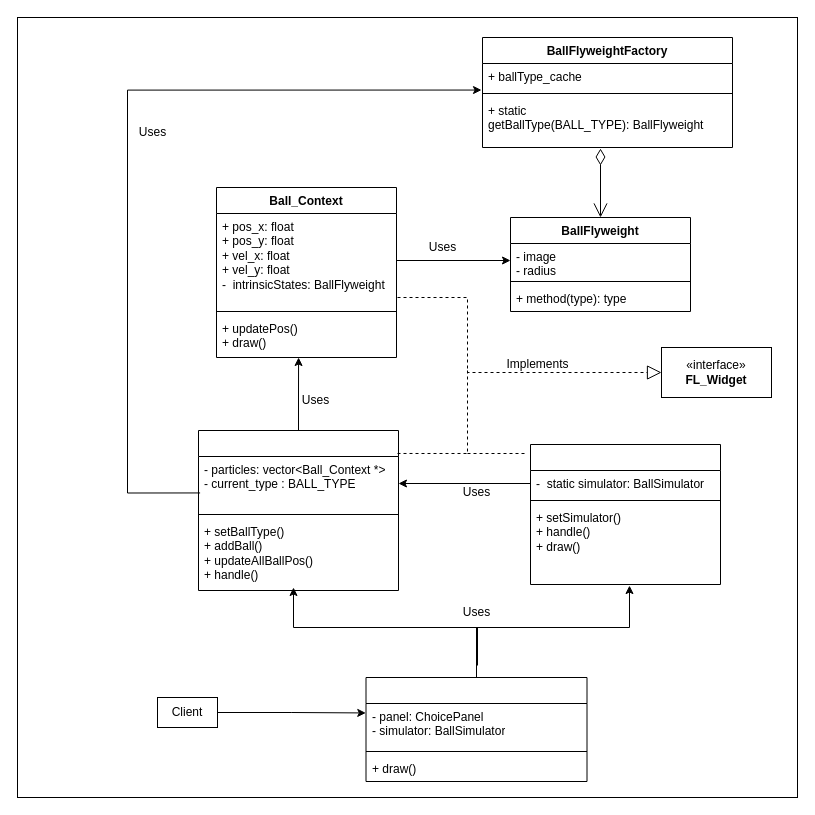
Some shapes in this 815 by 815 pixel diagram are drawn without their labels. The box of each missing label's shape, as (x1, y1, x2, y2) in pixels:
BallSimulator: (198, 430, 398, 590)
ChoicePanel: (530, 444, 720, 584)
SimulationWindow: (365, 676, 587, 782)
